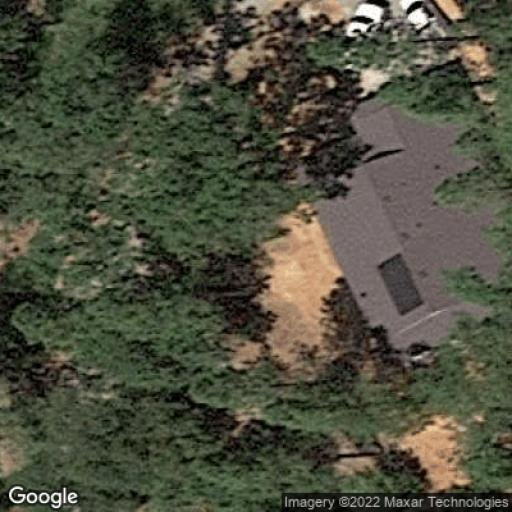solar-panel: (375, 249, 425, 320)
